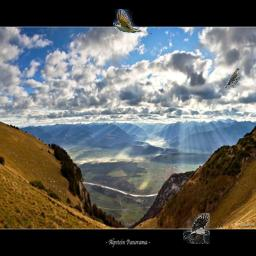Crow: (183, 213, 210, 244)
Cuckoo: (113, 9, 152, 34), (224, 68, 240, 88)
